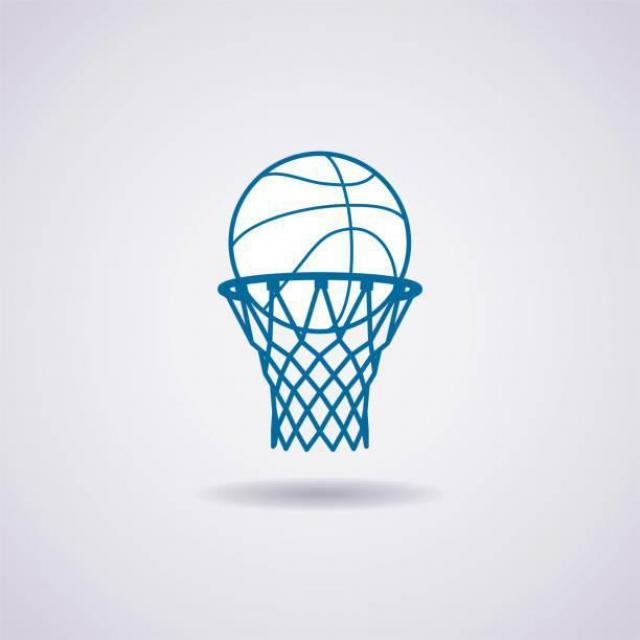Basketball: (229, 150, 413, 334)
hoop: (218, 271, 424, 452)
